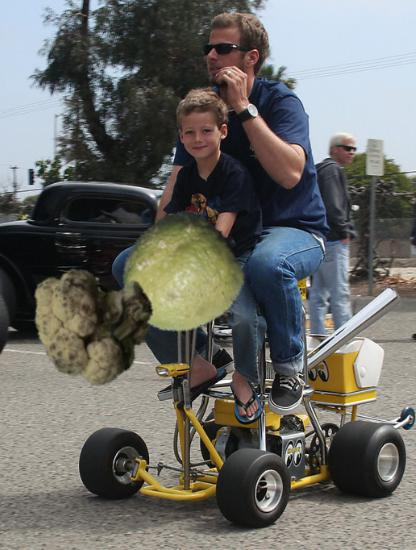Cauliflower: (31, 257, 158, 384)
Limes: (117, 210, 243, 336)
